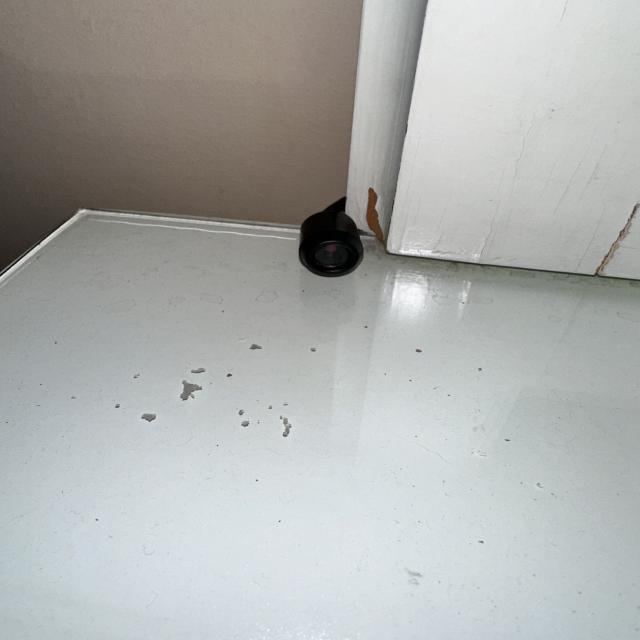hidden camera: (298, 236, 365, 277)
